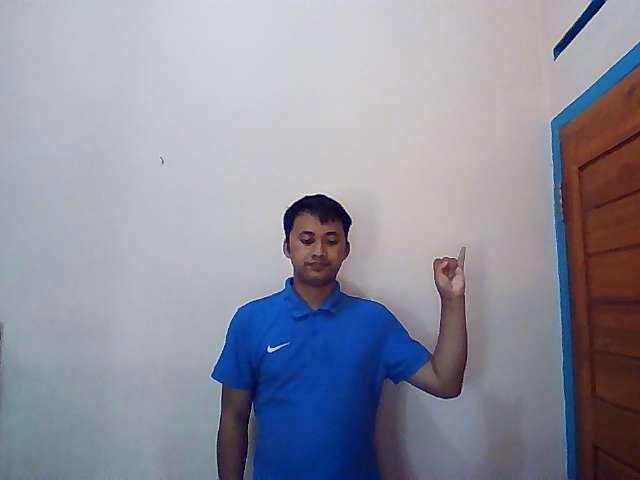I: (432, 245, 468, 293)
